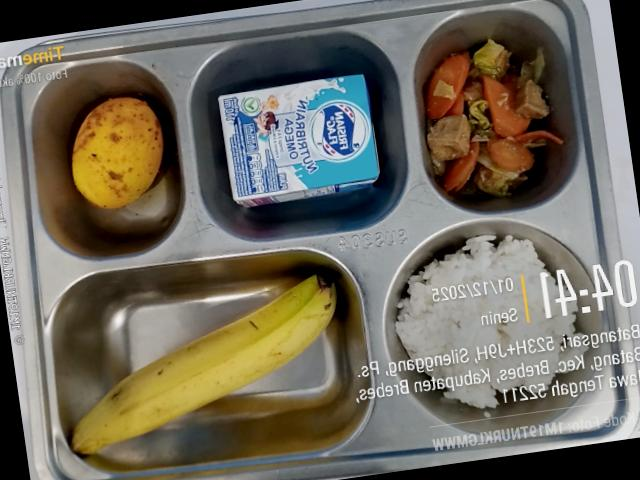buah: (72, 275, 337, 453)
nasi: (394, 235, 585, 407)
sayur: (483, 76, 530, 137)
susu: (218, 74, 379, 206)
tahu: (428, 114, 470, 161)
telur: (72, 97, 163, 209)
